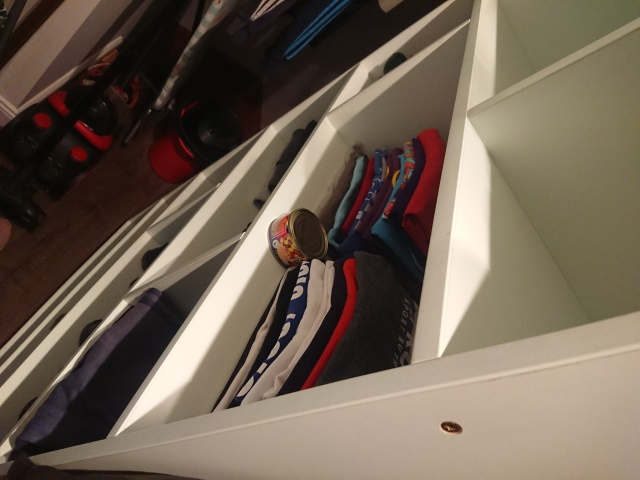Giana Tuna Salad Mexico 185g: (266, 206, 331, 274)
